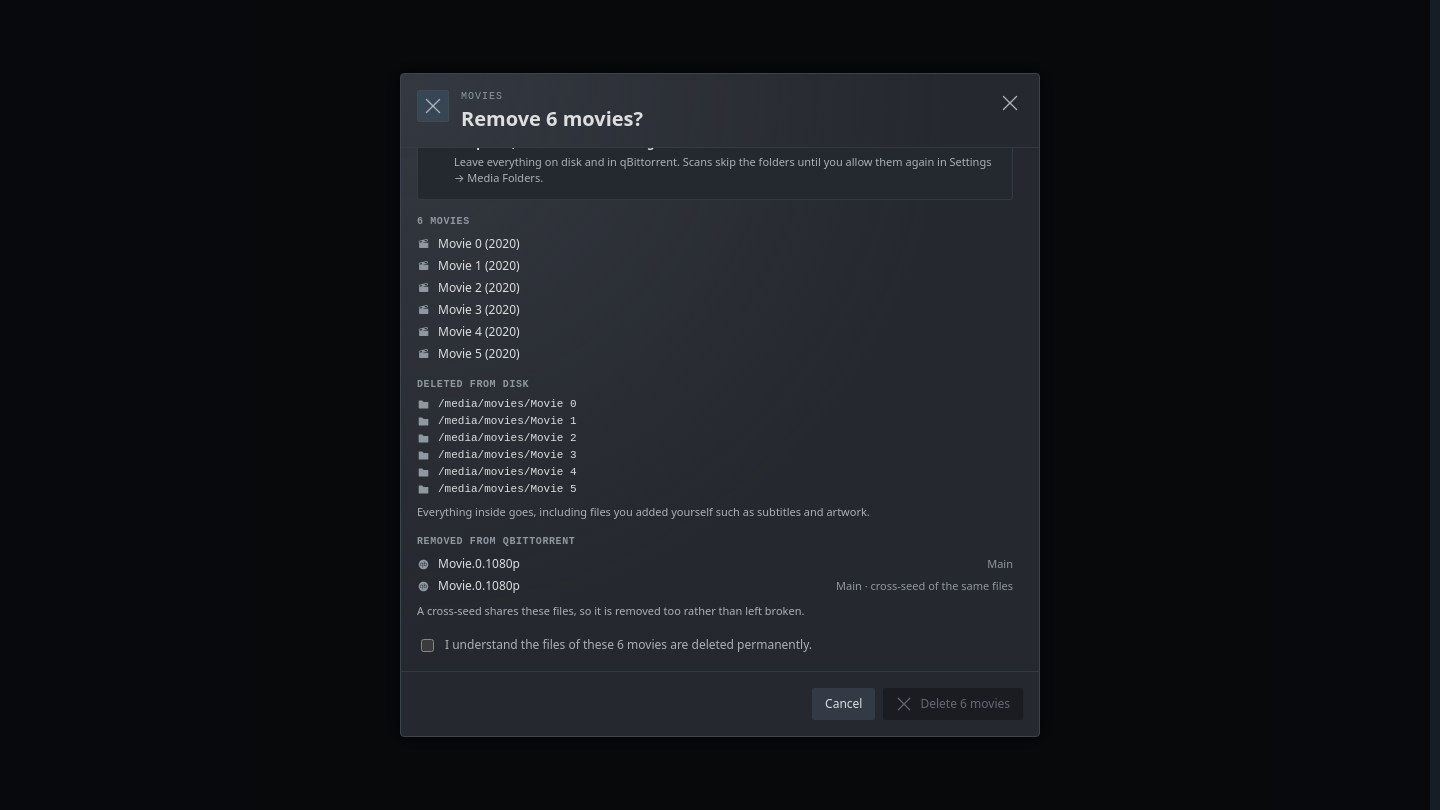
Test: RemoveTitlesModal › asks for an acknowledgement before deleting many titles
(page scrolled)
Check: the text "/media/movies/Movie 5" is shown, box x1=438 y1=483 x2=577 y2=495
Check: the button "Delete 6 movies" is disabled, box x1=884 y1=688 x2=1023 y2=720
Click the checkbox: (428, 645) x1=421 y1=639 x2=434 y2=652
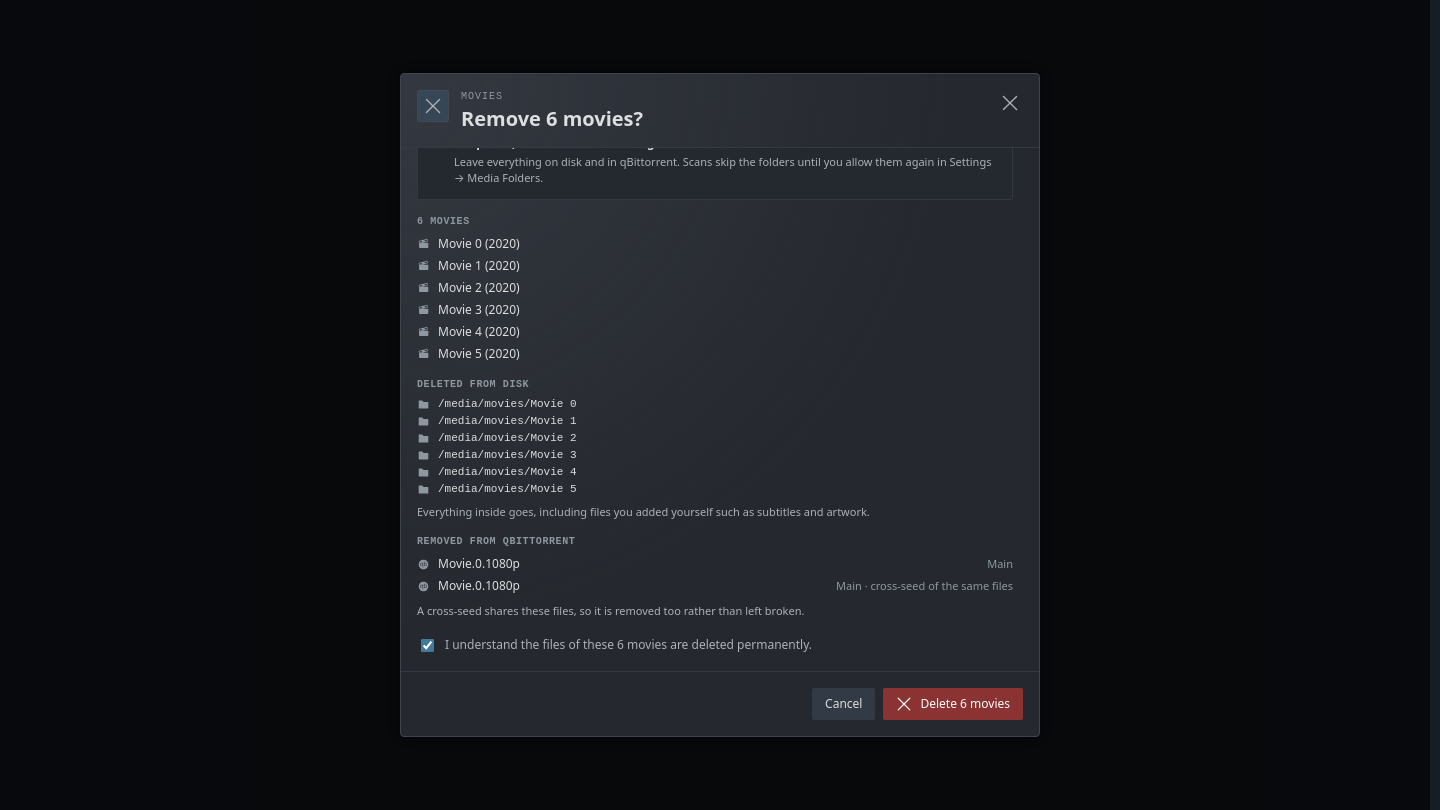
Check: the button "Delete 6 movies" is enabled, box x1=884 y1=688 x2=1023 y2=720
